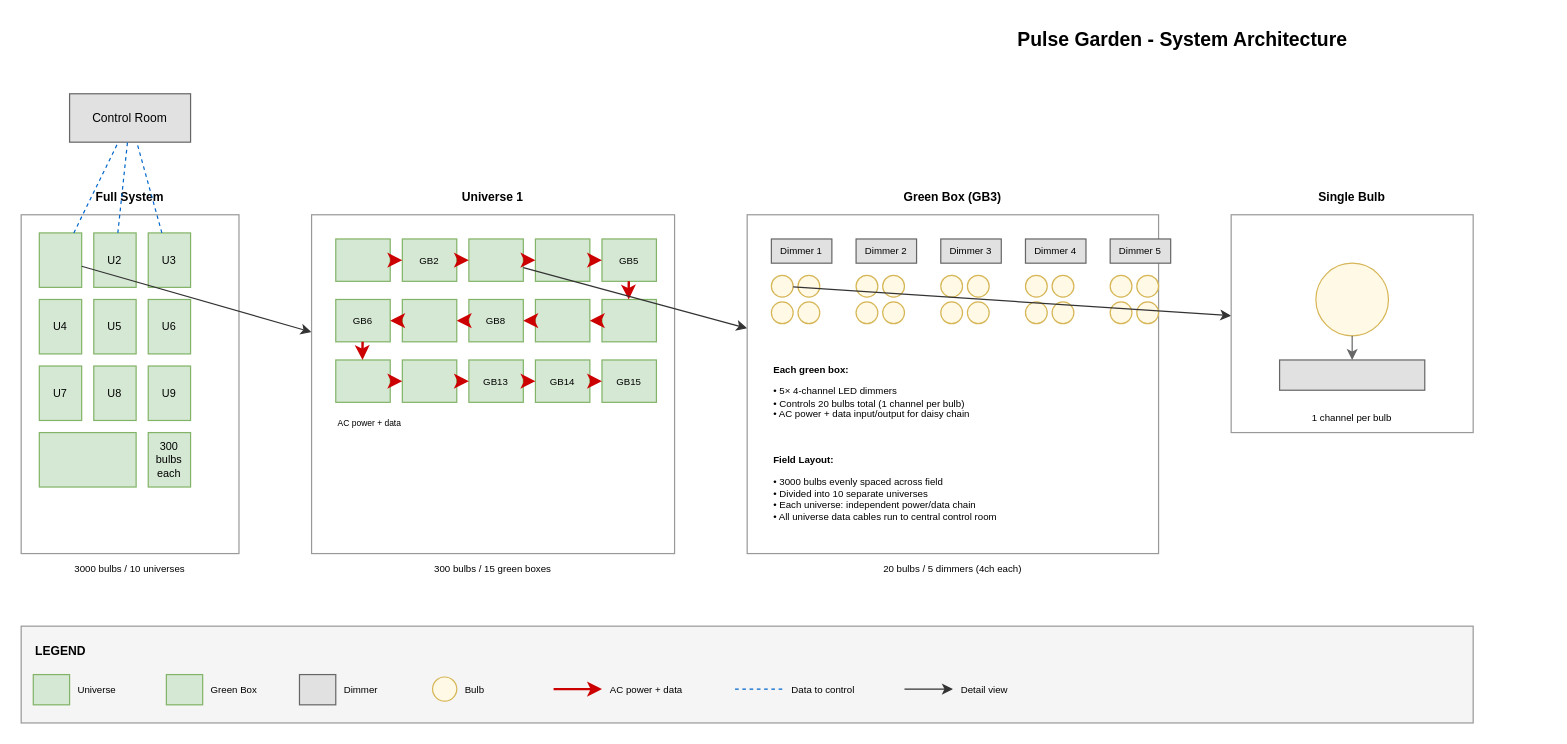
Some shapes in this 1567 by 744 pixel diagram are drawn without their labels. Each missing label, with the centre of its shape:
4-channel dimmer: (1351,374)
GB1: (362,259)
GB10: (628,320)
GB11: (362,380)
GB12: (429,380)
GB3: (495,259)
GB4: (562,259)
GB7: (429,320)
GB9: (562,320)
U1: (60,259)
U10: (87,459)
